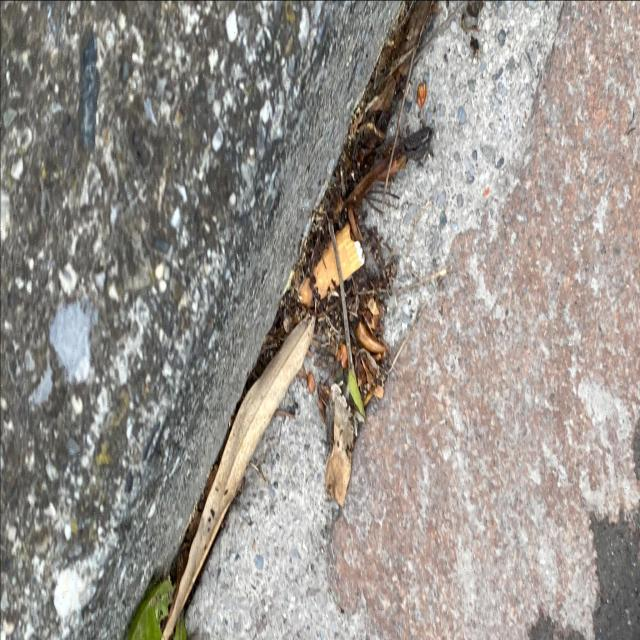other waste: (298, 221, 366, 311)
